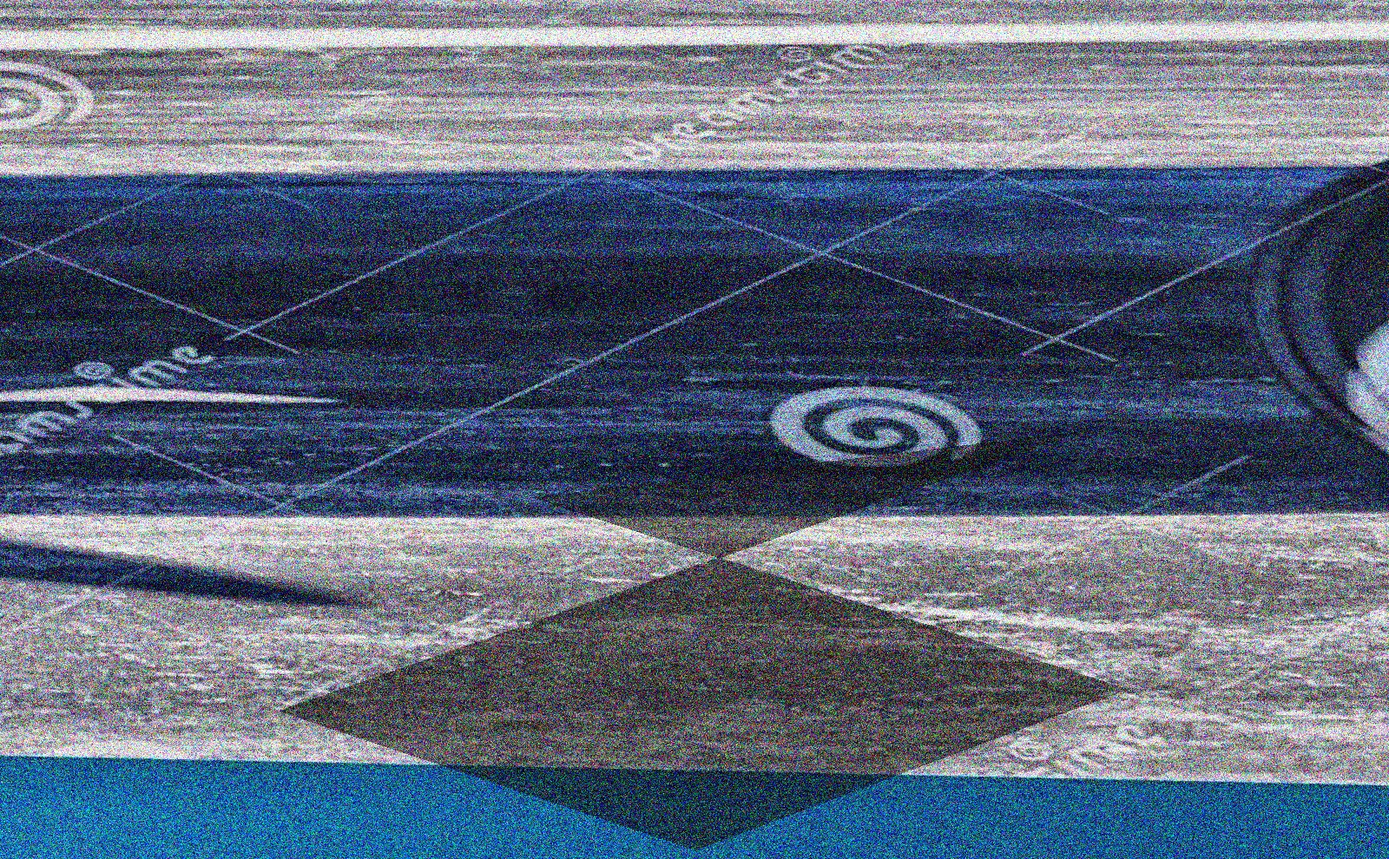wheel: (1132, 119, 1389, 523)
